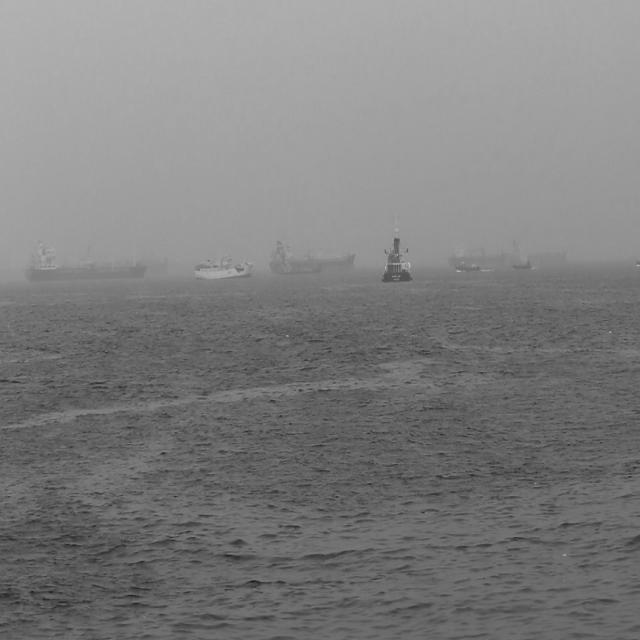ship: (28, 238, 148, 278), (269, 239, 356, 275), (382, 216, 412, 285), (193, 253, 254, 280), (448, 246, 516, 264), (454, 262, 481, 272), (512, 262, 534, 271)
